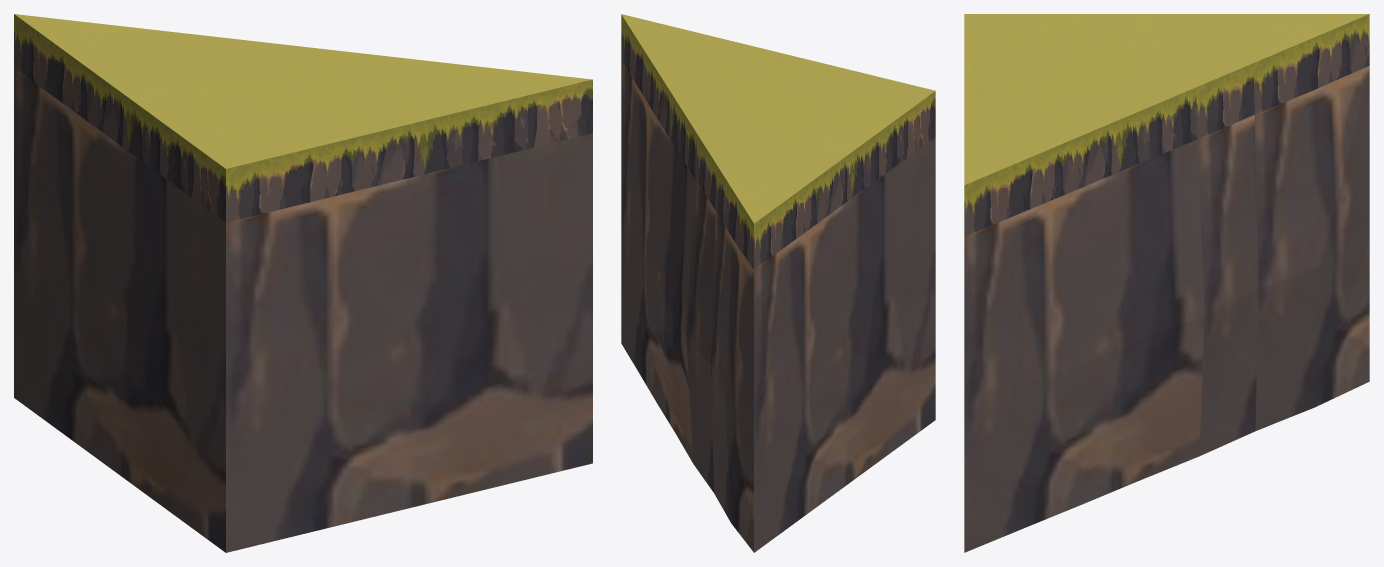
Rendered from rc_terrain_islandedge_45_8m.glb.
3 renders of one model, left to right at view 1: azimuth 30°, elevation 25°; view 2: azimuth 150°, elevation 25°; view 3: azimuth 270°, elevation 25°, orthographic. The views are drawn at different scales.
Parts seen in each view (by area): view 1: SM_RC_Terrain_IslandEdge_45_8m; view 2: SM_RC_Terrain_IslandEdge_45_8m; view 3: SM_RC_Terrain_IslandEdge_45_8m.
Boxes of the visible parts, bbox=[...] form: SM_RC_Terrain_IslandEdge_45_8m: bbox=[14, 14, 592, 552]; SM_RC_Terrain_IslandEdge_45_8m: bbox=[621, 14, 935, 552]; SM_RC_Terrain_IslandEdge_45_8m: bbox=[964, 14, 1369, 552].
Bounding box in the file's own units: 8 × 8 × 8.
1 material, 1 textured.
